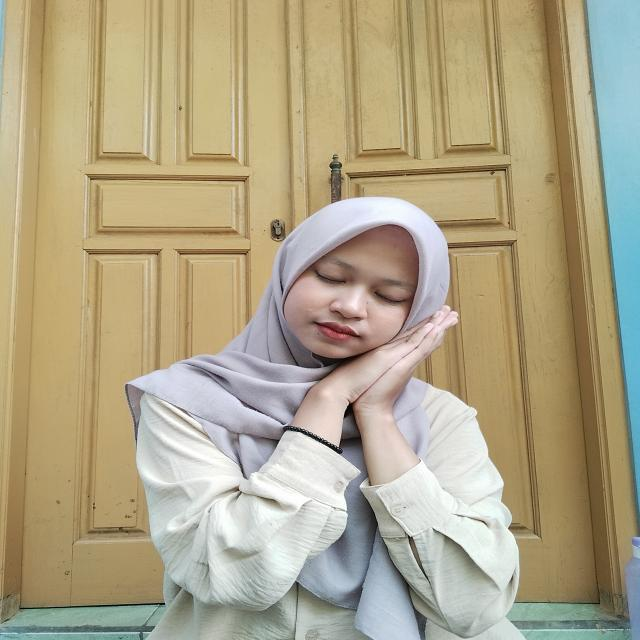tidur: (266, 304, 468, 480)
